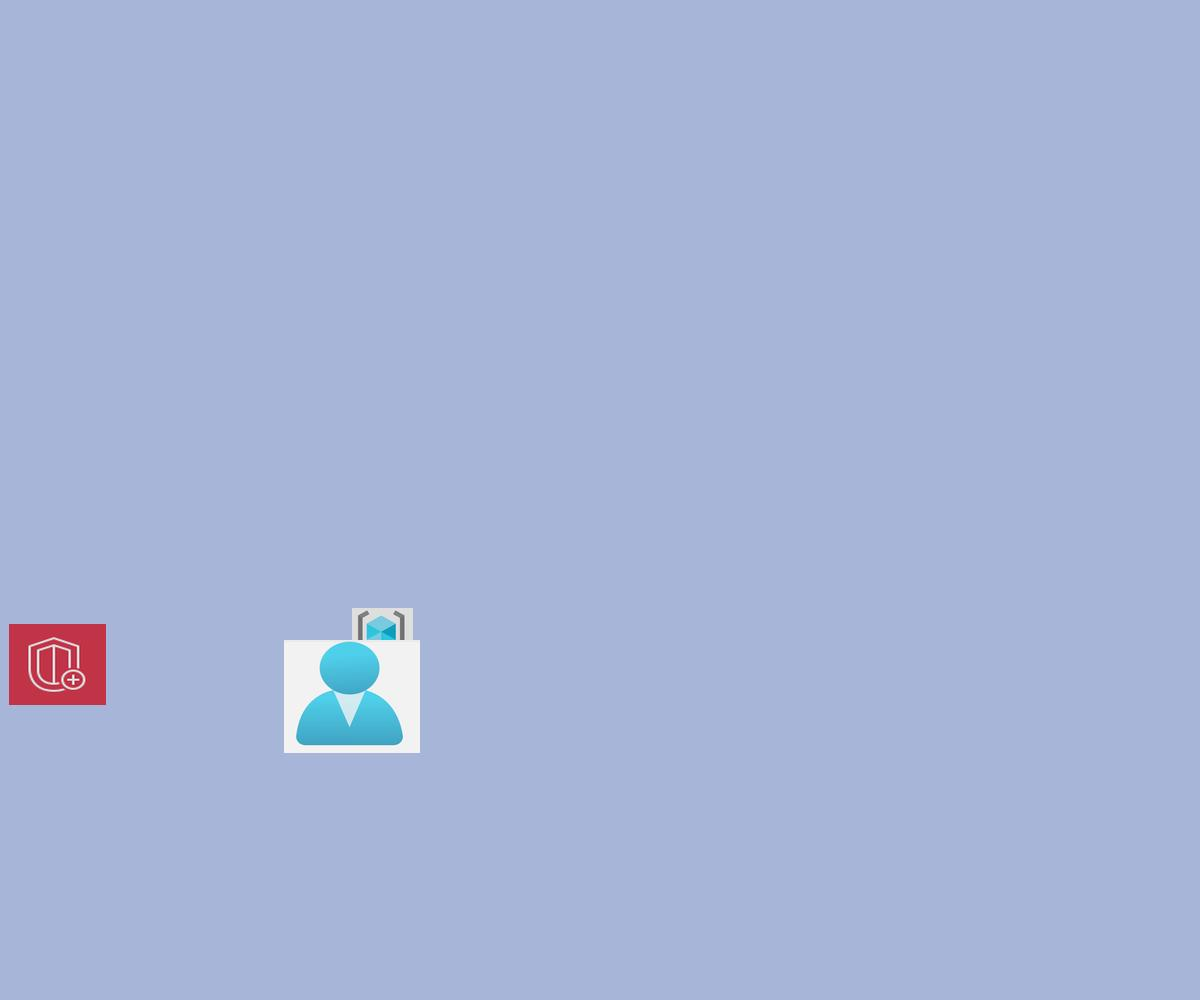AWS-Shield: (9, 624, 106, 705)
Azure_resource_group: (352, 608, 413, 659)
Azure_users: (284, 640, 420, 753)
